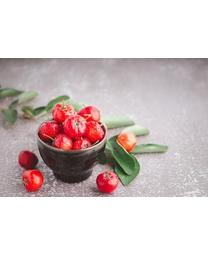cherry: (63, 115, 87, 137), (79, 120, 103, 142), (96, 172, 119, 194), (52, 103, 74, 123), (22, 170, 42, 191), (117, 131, 137, 152), (39, 121, 60, 140), (17, 150, 39, 168), (78, 105, 100, 121), (71, 134, 91, 151), (52, 132, 71, 148)
